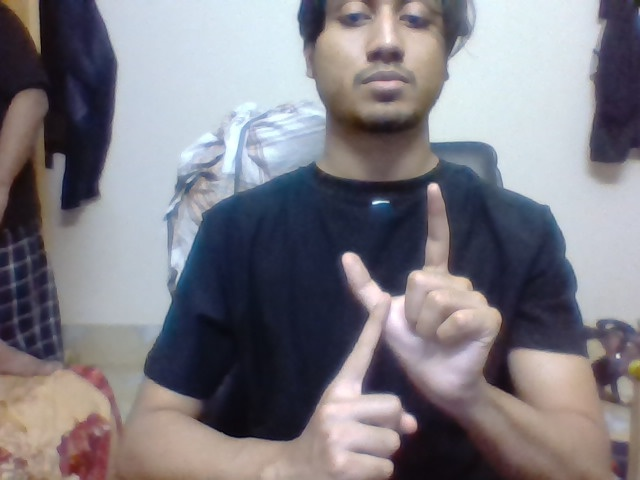Y: (322, 178, 459, 364)
